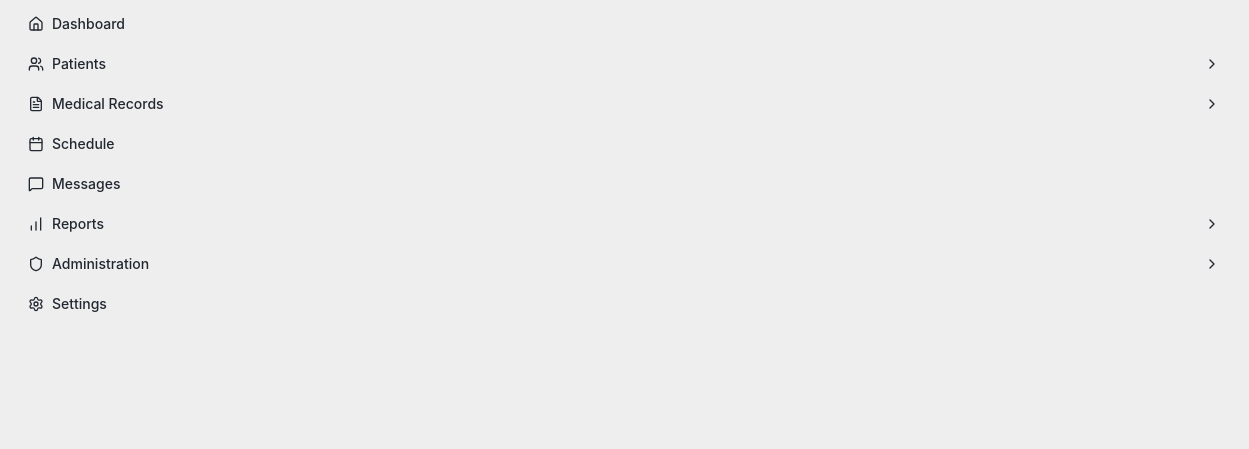
Test case: Navigation › Nested menu items › expands nested items when parent is clicked
// Click to expand
What coordinates should you click on to do the following:
click the button "Patients"
I would click on:
 (79, 64)
Its box is [16, 46, 1232, 82].
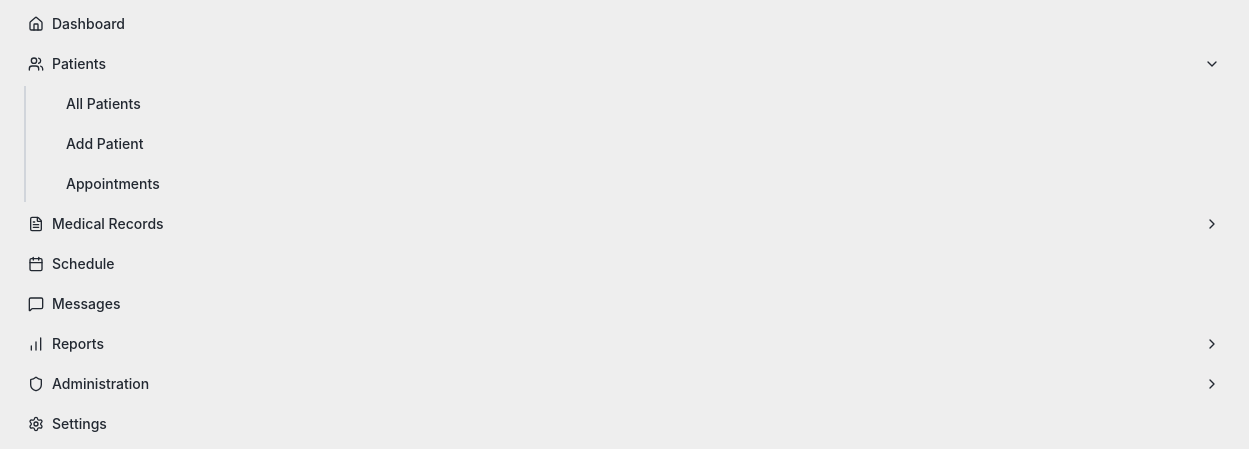
Expected: the text "All Patients" is shown, [66, 94, 141, 114]
Expected: the text "Add Patient" is shown, [66, 134, 143, 154]
Expected: the text "Appointments" is shown, [66, 174, 160, 194]
